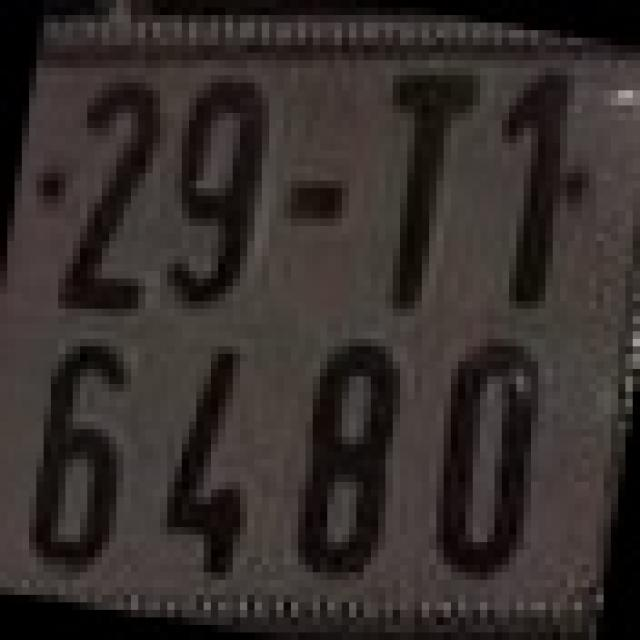0: (429, 331, 546, 580)
1: (487, 64, 589, 312)
2: (58, 76, 160, 316)
4: (160, 339, 255, 580)
6: (29, 339, 131, 572)
8: (280, 328, 411, 576)
9: (167, 75, 269, 309)
T: (371, 68, 487, 308)
